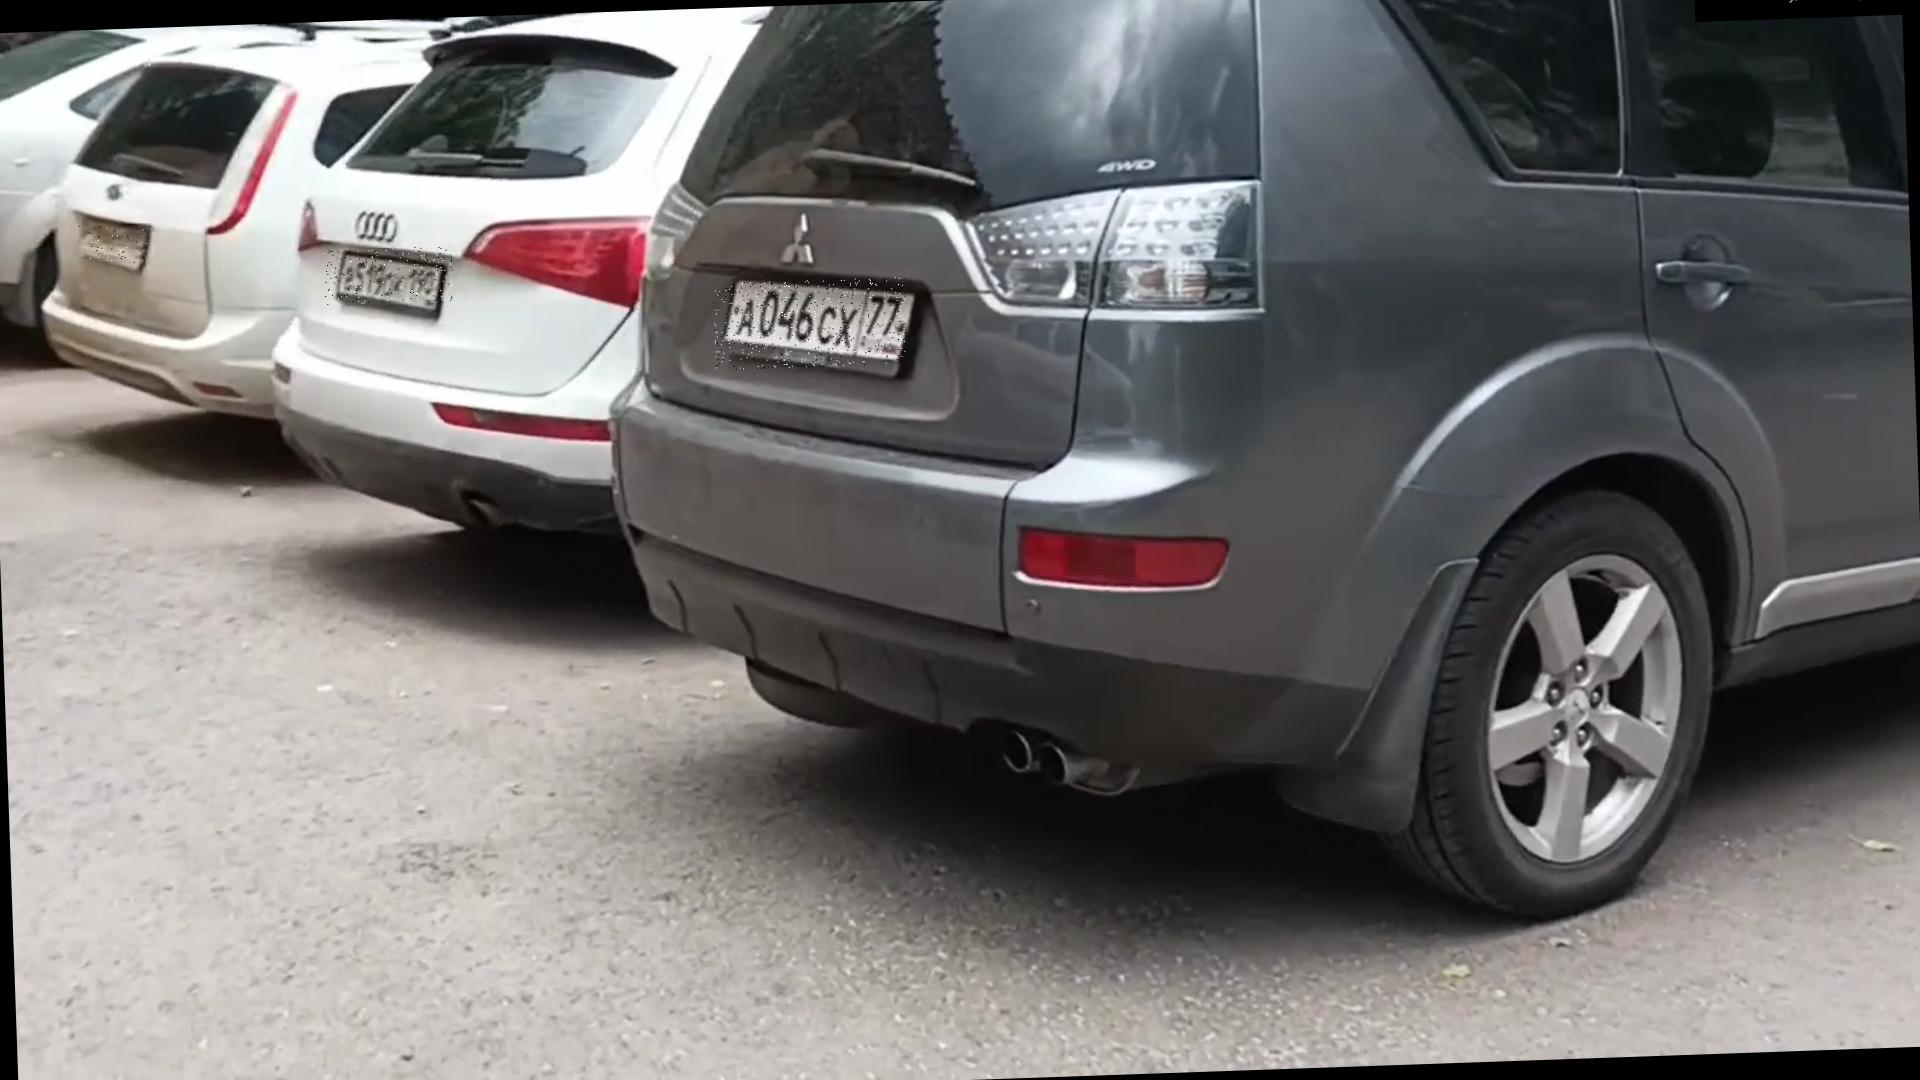plate: (715, 278, 910, 372), (325, 247, 455, 307), (78, 225, 154, 267)
